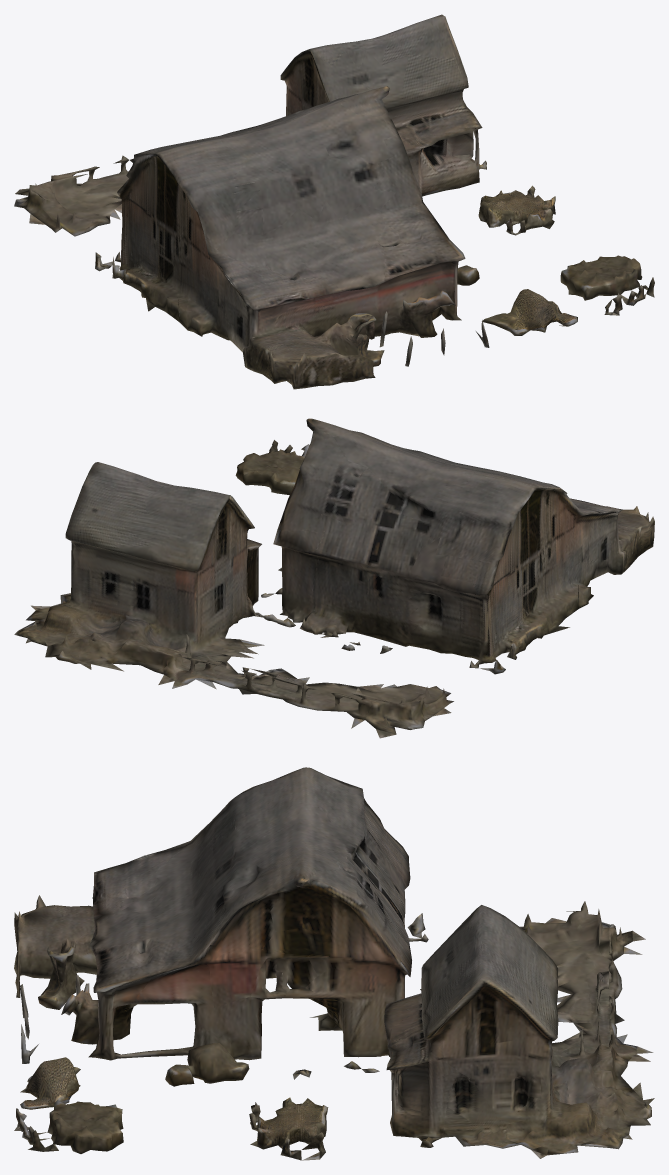
The model's file is abandoned_farmstead.glb.
The picture shows the model from 3 angles, top to bottom: view 1: azimuth 30°, elevation 25°; view 2: azimuth 150°, elevation 25°; view 3: azimuth 270°, elevation 25°; orthographic projection. The views are drawn at different scales.
Parts seen in each view (by area): view 1: AbandonedFarmstead; view 2: AbandonedFarmstead; view 3: AbandonedFarmstead.
Boxes of the visible parts, x1=… form: AbandonedFarmstead: x1=14, y1=14, x2=654, y2=389; AbandonedFarmstead: x1=14, y1=418, x2=654, y2=738; AbandonedFarmstead: x1=14, y1=767, x2=654, y2=1160.
Size of the model in its own units: 13.33 by 5.03 by 15.
1 material, 1 textured.
